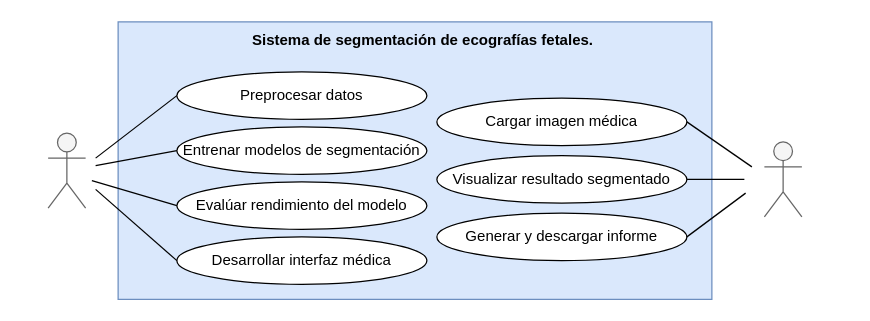
Image size: 870x321. Some labels were removed from this diagram. The shapes that lost their labels are listed below. From the top down, each one's centre as x and y in pixels, then its label:
the point at 66,170: Desarrollador
the point at 782,179: Médico especialista
